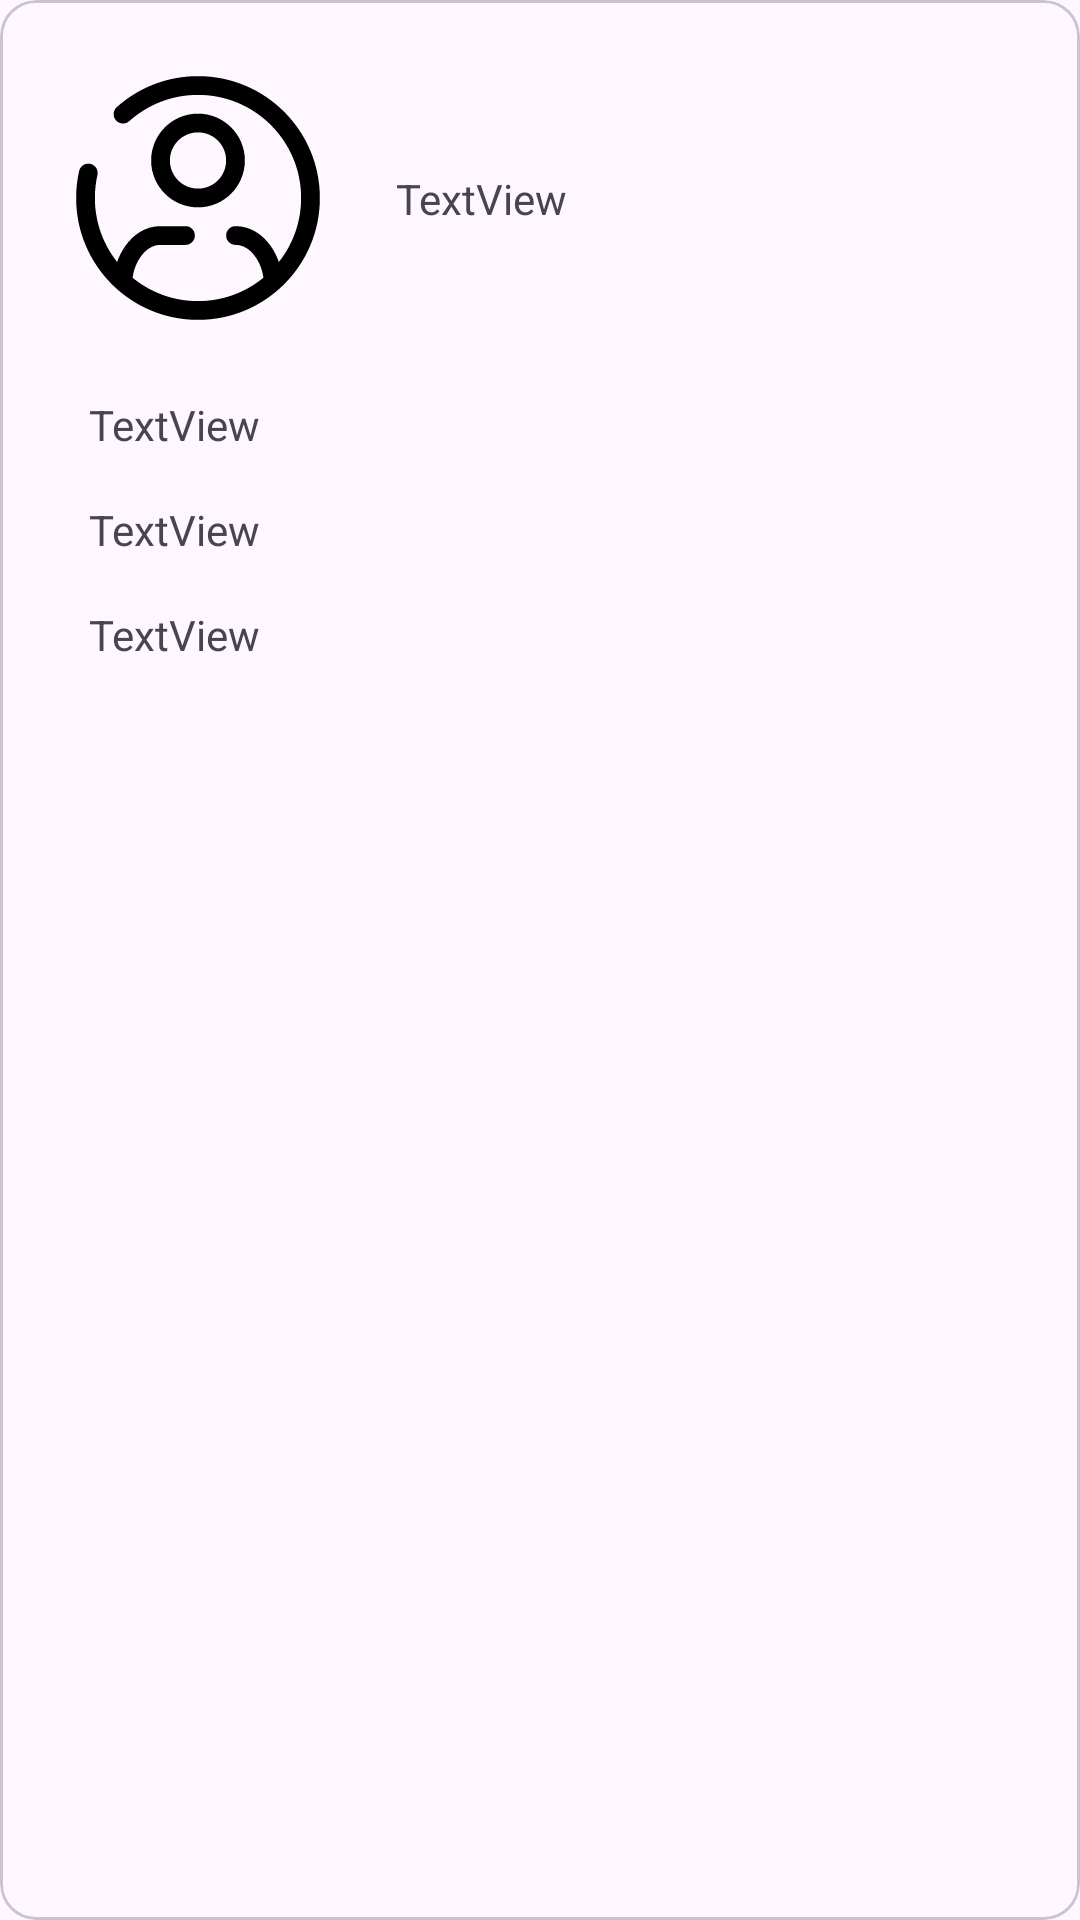

Icon click points for this 1080*1920 phone screenshot, format (x,y):
author: (198,198)
